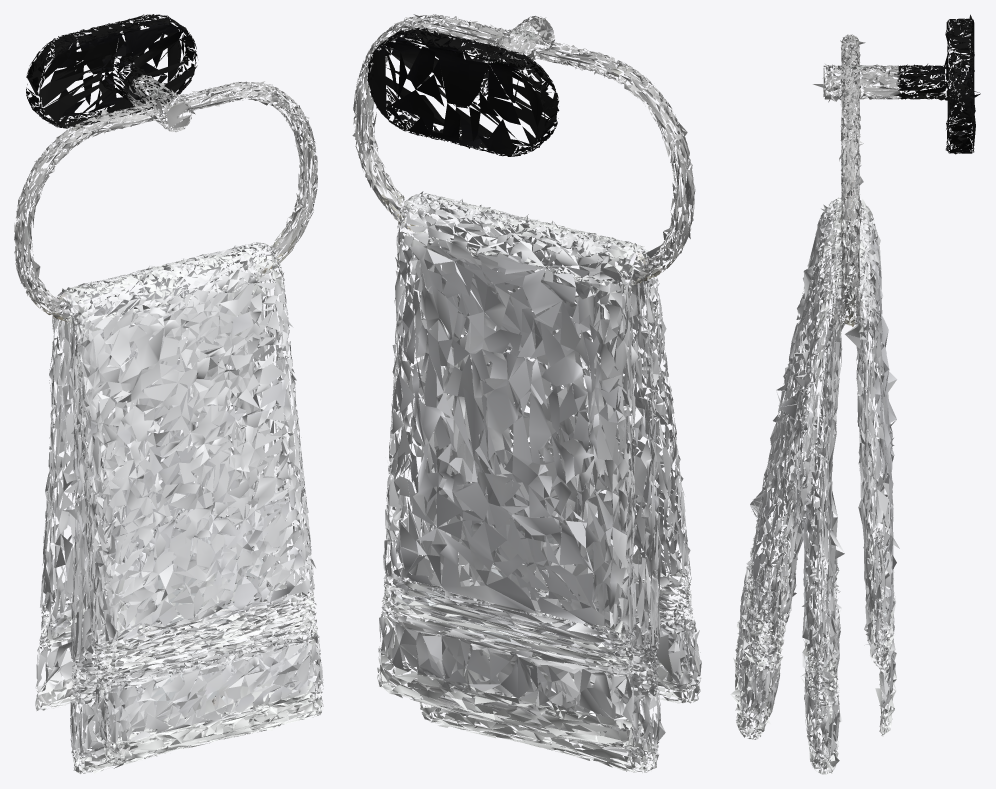
The model's file is mk2-towel-hanger.glb.
3 views of the same model, side by side, from view 1: azimuth 30°, elevation 25°; view 2: azimuth 150°, elevation 25°; view 3: azimuth 270°, elevation 25° (orthographic). The views are drawn at different scales.
Parts seen in each view (by area): view 1: mesh_node; view 2: mesh_node; view 3: mesh_node.
Part boxes in pixels (<box>): mesh_node: <box>14,14,323,774</box>; mesh_node: <box>352,14,701,773</box>; mesh_node: <box>730,14,980,774</box>.
Bounding box in the file's own units: 0.8923 × 1.91 × 0.6325.
1 material, 1 textured.
